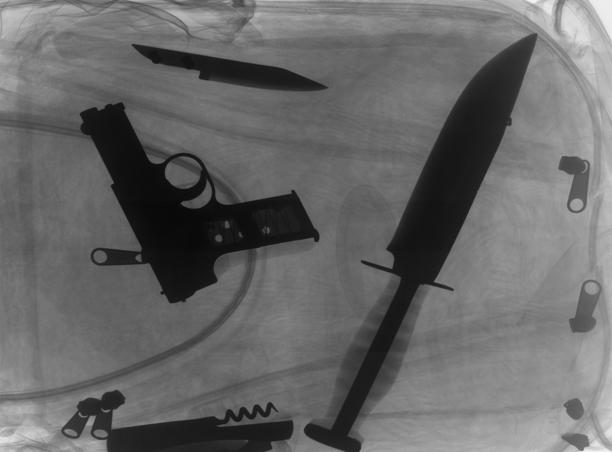Handgun: (75, 98, 320, 306)
Knife: (300, 30, 541, 452), (51, 29, 327, 93)
